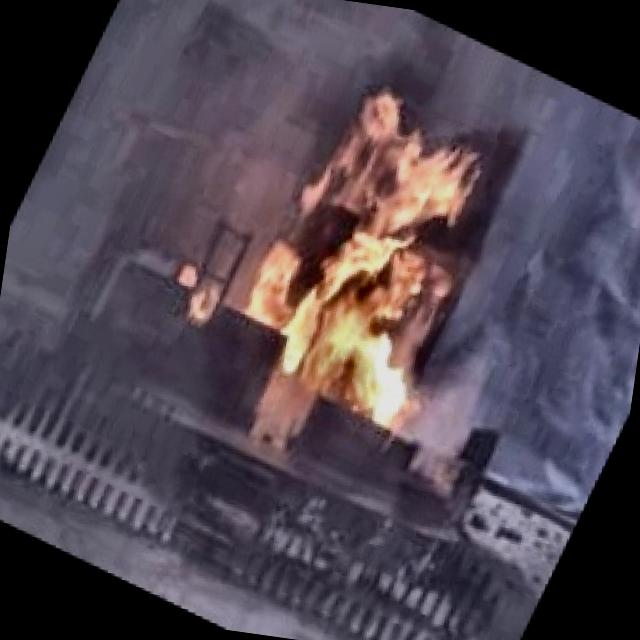fire: (195, 63, 534, 460)
